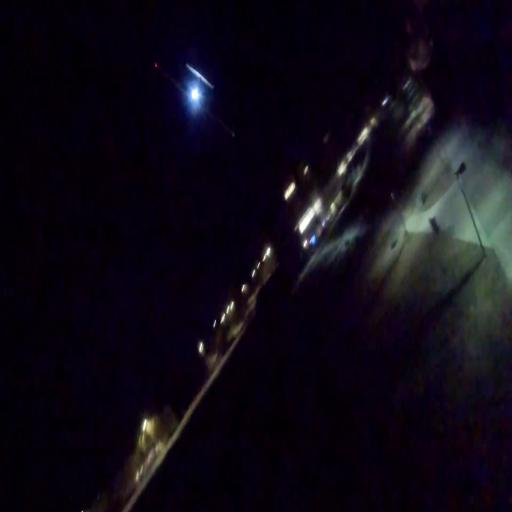uav: (146, 42, 236, 145)
